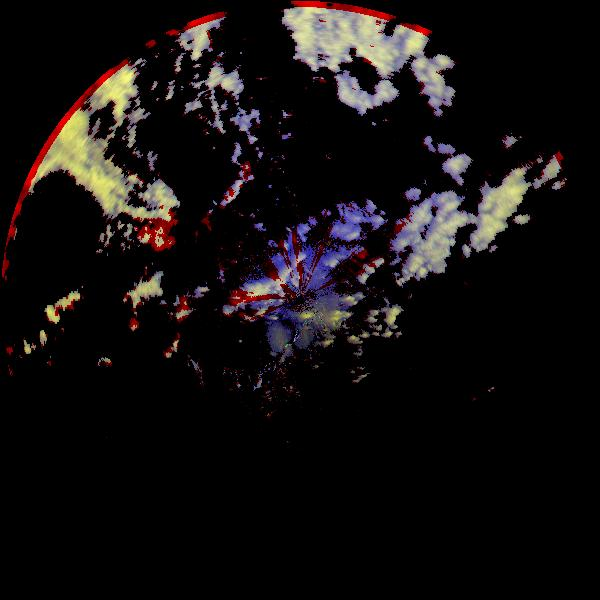roost: (94, 354, 115, 375)
